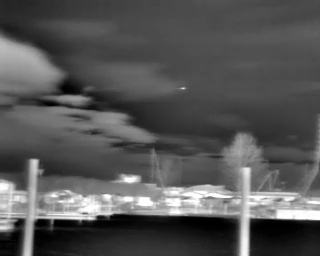BIRD: (177, 84, 188, 93)
